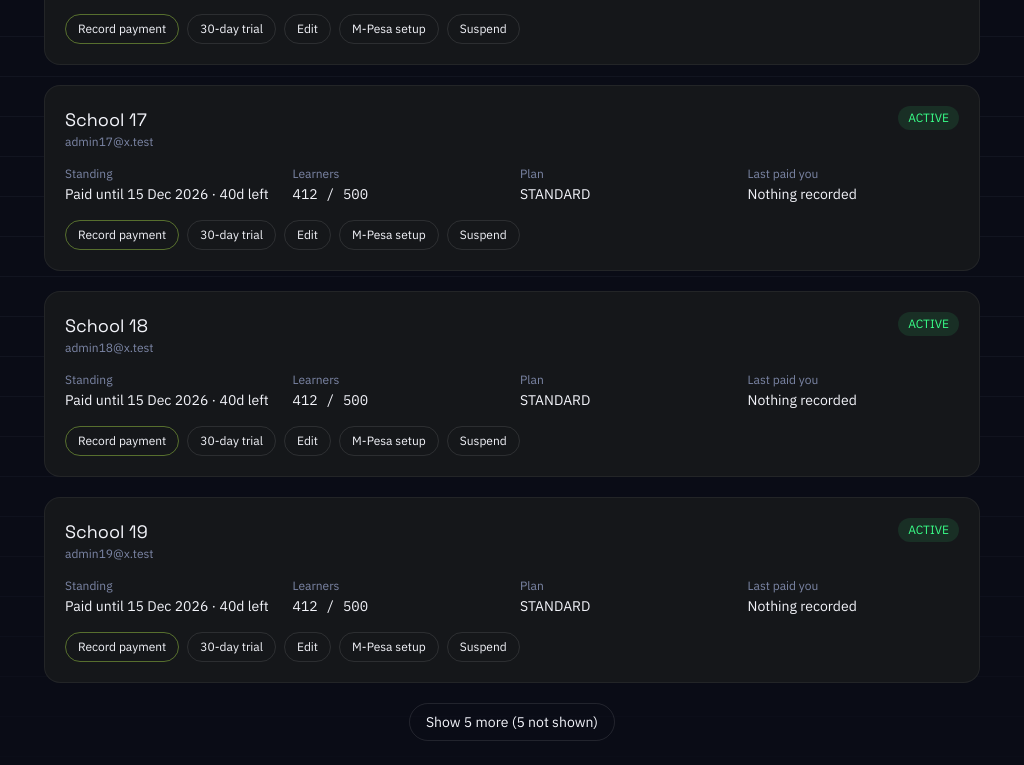
Test: finding a school among many › shows 20 at a time and offers the rest
(page scrolled)
expect the heading "School 19" is shown: met, box [65,518,154,546]
Click the button "Show 5 more (5 not shown)". click: coordinates (512, 722)
box: [409,703,615,741]
(page scrolled)
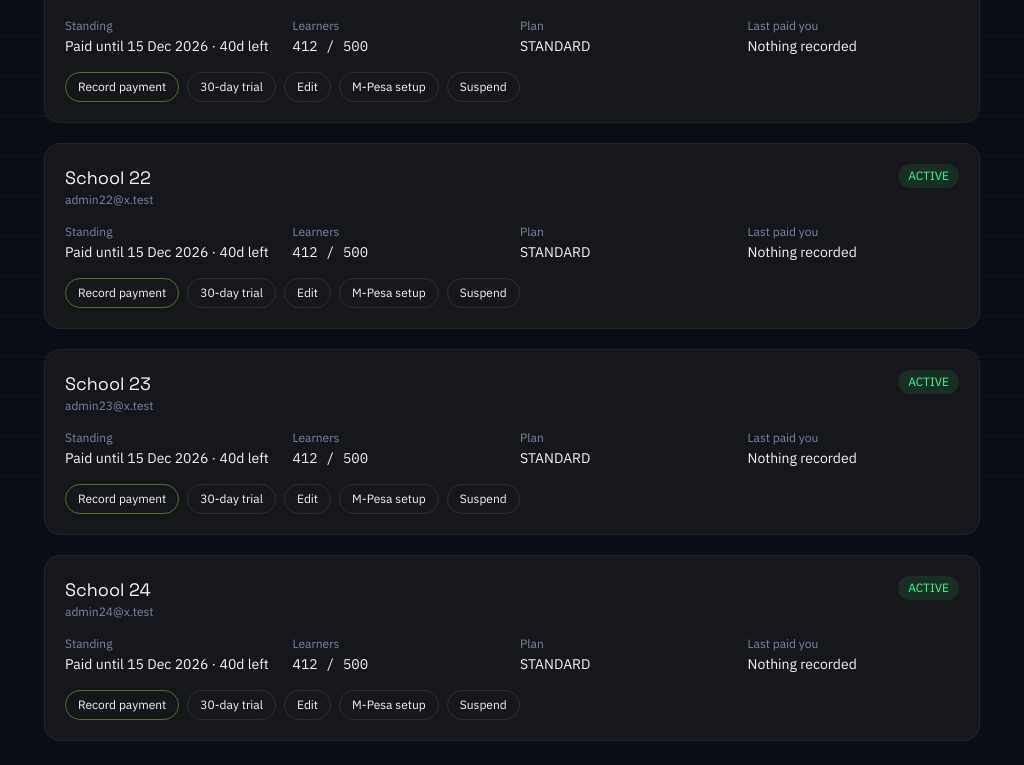
expect the heading "School 24" is shown: met, box [65,576,154,604]
